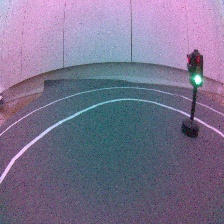green: (180, 48, 206, 141)
